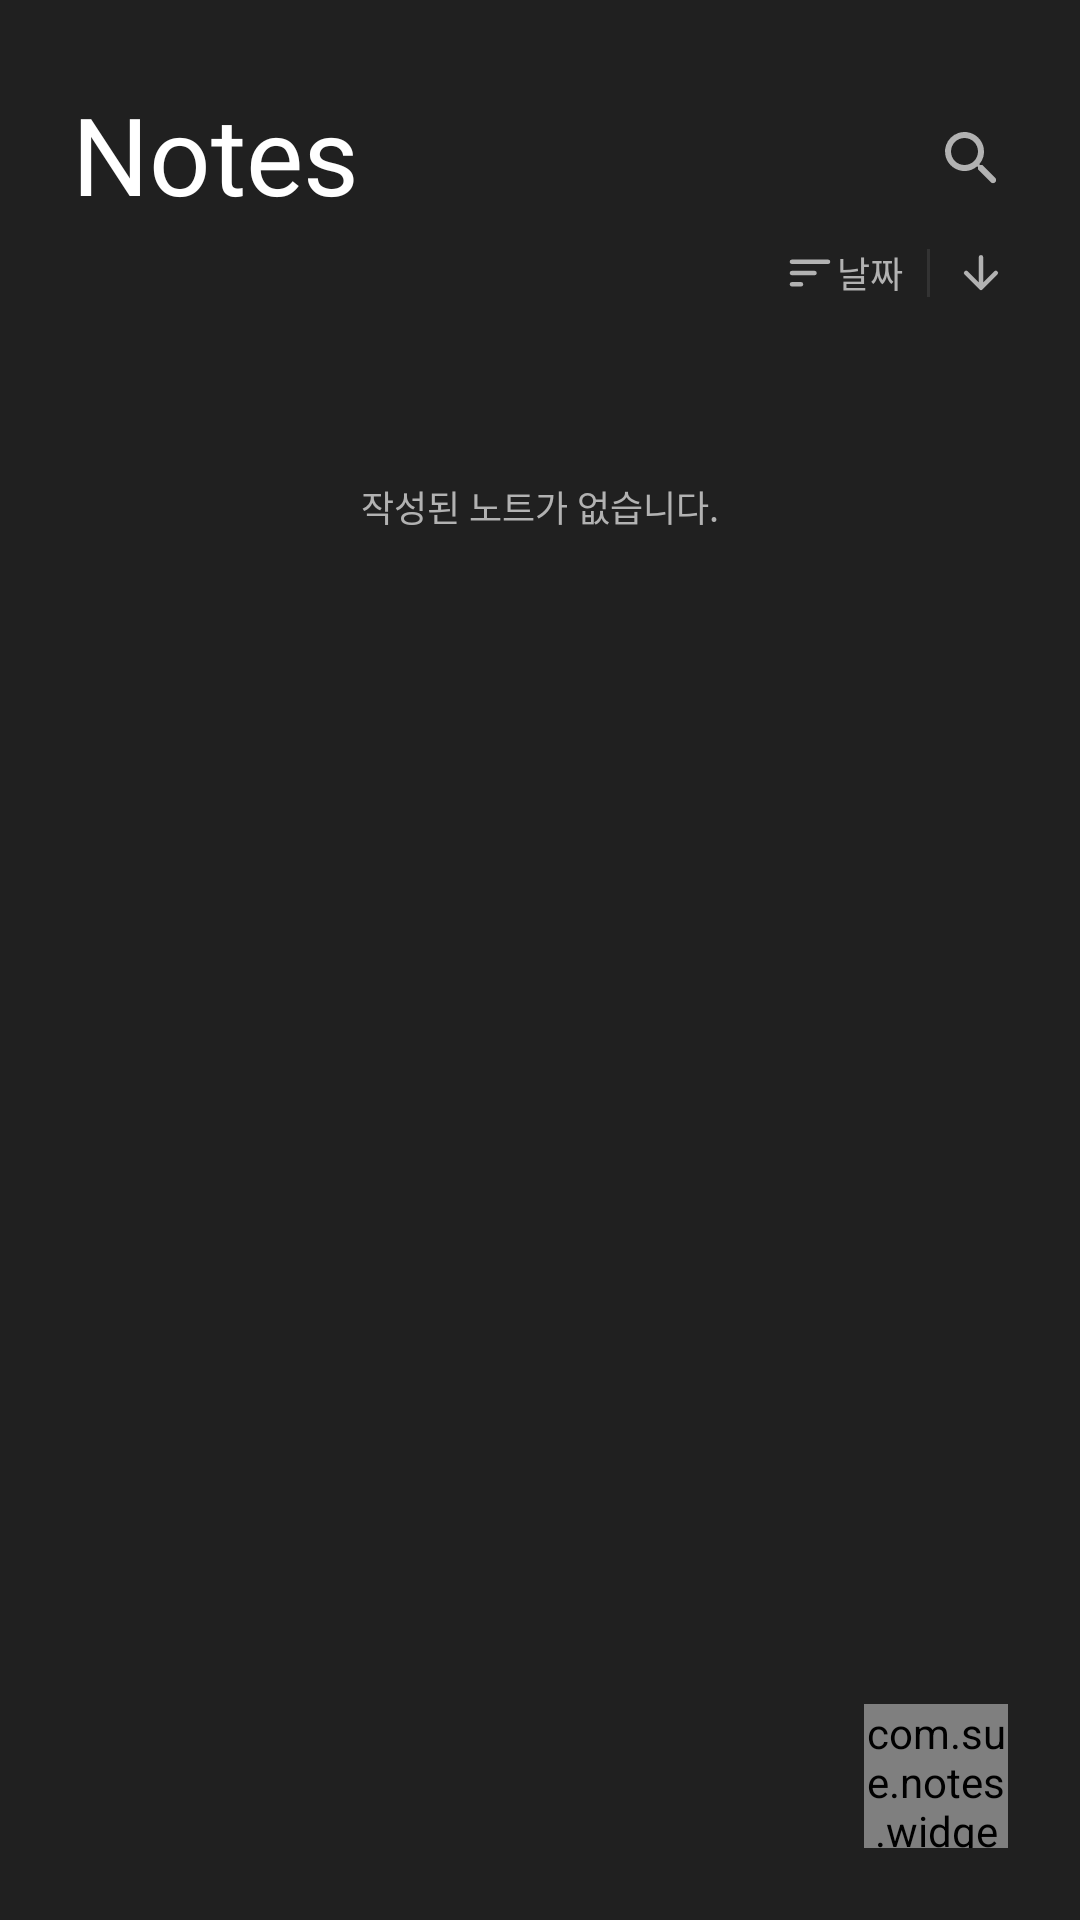

Icons on this 1080*1920 Android screen, each with the point to tap as point (x, y):
search: point (970, 157)
